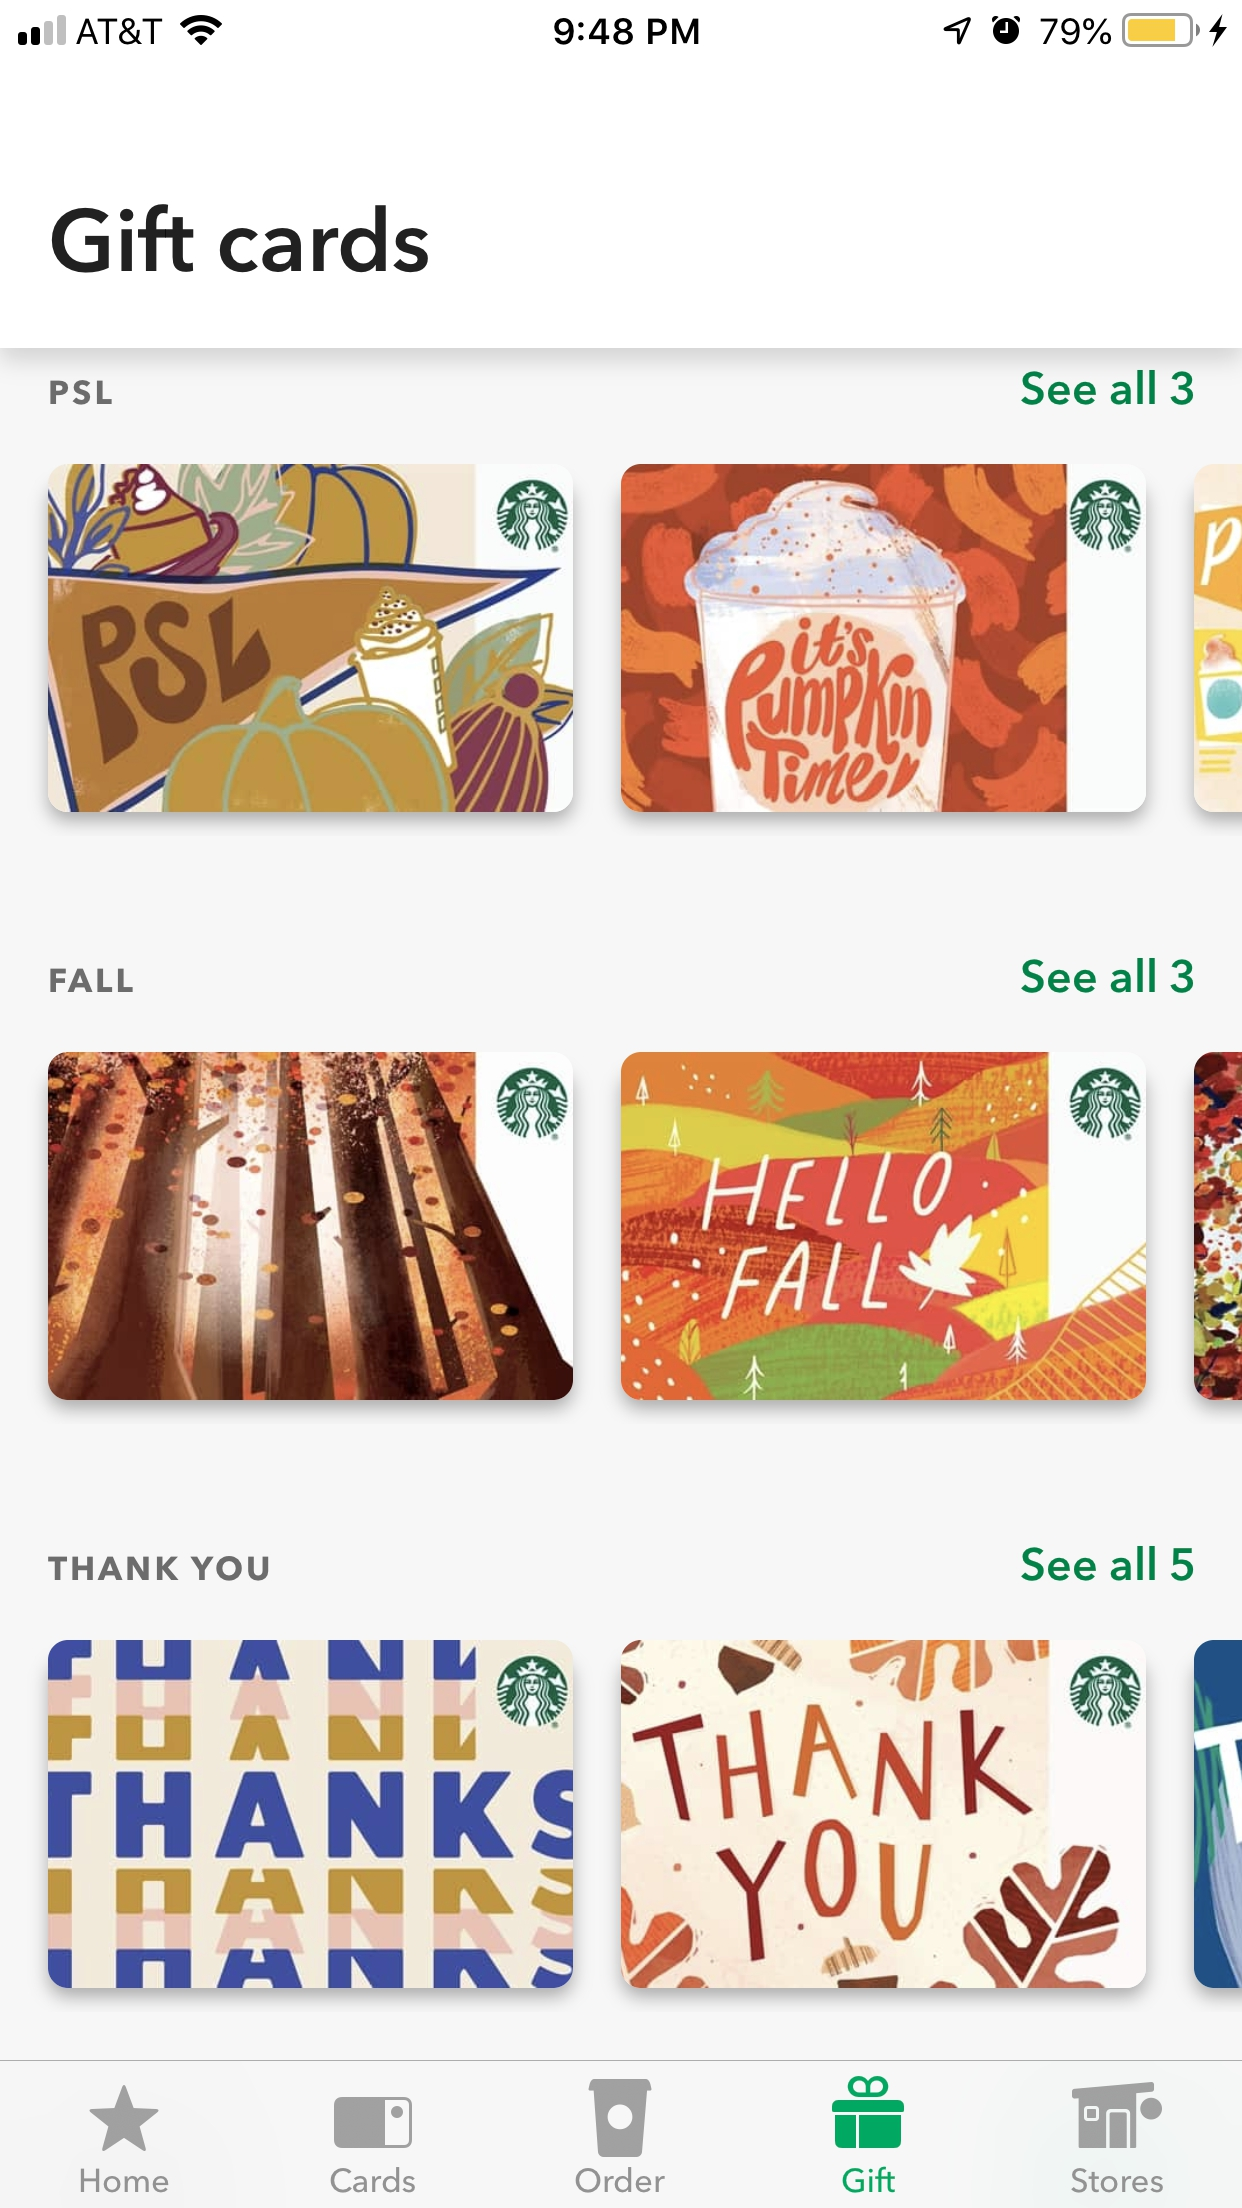Icon: (831, 2075, 905, 2149), (89, 2085, 161, 2152), (334, 2097, 414, 2149)
Image: (47, 464, 575, 814), (620, 1639, 1146, 1990), (49, 1051, 575, 1401), (622, 1051, 1146, 1401), (622, 464, 1146, 814), (47, 1639, 573, 1988), (1193, 1639, 1242, 1990), (1193, 1051, 1242, 1401), (1193, 464, 1242, 814), (1071, 2081, 1163, 2149), (588, 2078, 654, 2158)
Text: (52, 205, 431, 274), (1022, 1545, 1193, 1583), (1021, 370, 1193, 406), (1022, 957, 1193, 993), (49, 1554, 270, 1582), (1071, 2167, 1165, 2194), (575, 2167, 666, 2194), (331, 2166, 416, 2193), (80, 2167, 170, 2193), (50, 971, 133, 993), (50, 379, 114, 406), (842, 2166, 896, 2194)
UpperTaskBar: (2, 2, 1242, 49)
